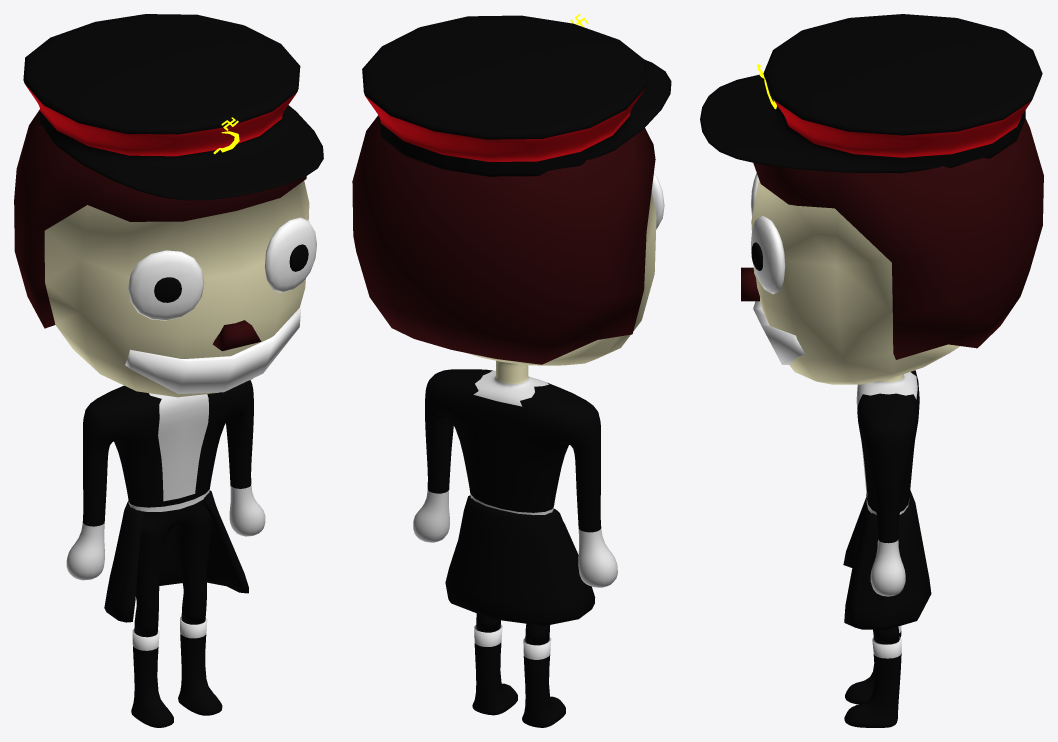
File: Hit;er.fbx
3 views of the same model, side by side, from view 1: azimuth 30°, elevation 25°; view 2: azimuth 150°, elevation 25°; view 3: azimuth 270°, elevation 25° (orthographic). The views are drawn at different scales.
Parts seen in each view (by area): view 1: Plane; view 2: Plane; view 3: Plane.
Part boxes in pixels (x1=…): Plane: x1=14, y1=14, x2=323, y2=727; Plane: x1=352, y1=14, x2=671, y2=727; Plane: x1=700, y1=14, x2=1043, y2=727.
Bounding box in the file's own units: 85.27 × 196 × 94.34.
